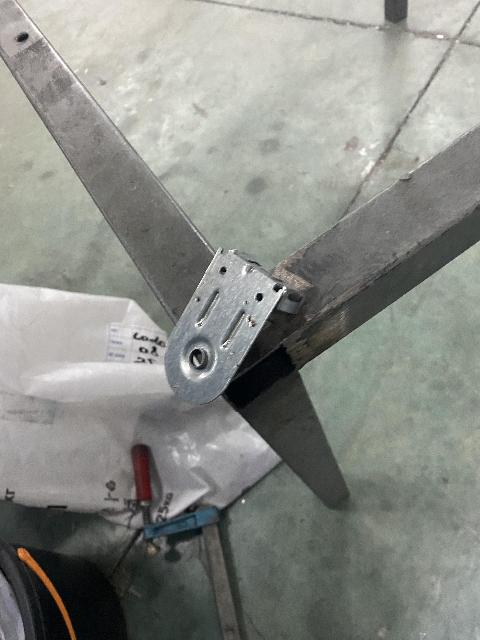Metal: (157, 240, 303, 403), (129, 448, 240, 559)
Plastik: (3, 268, 127, 514), (0, 529, 122, 640)
